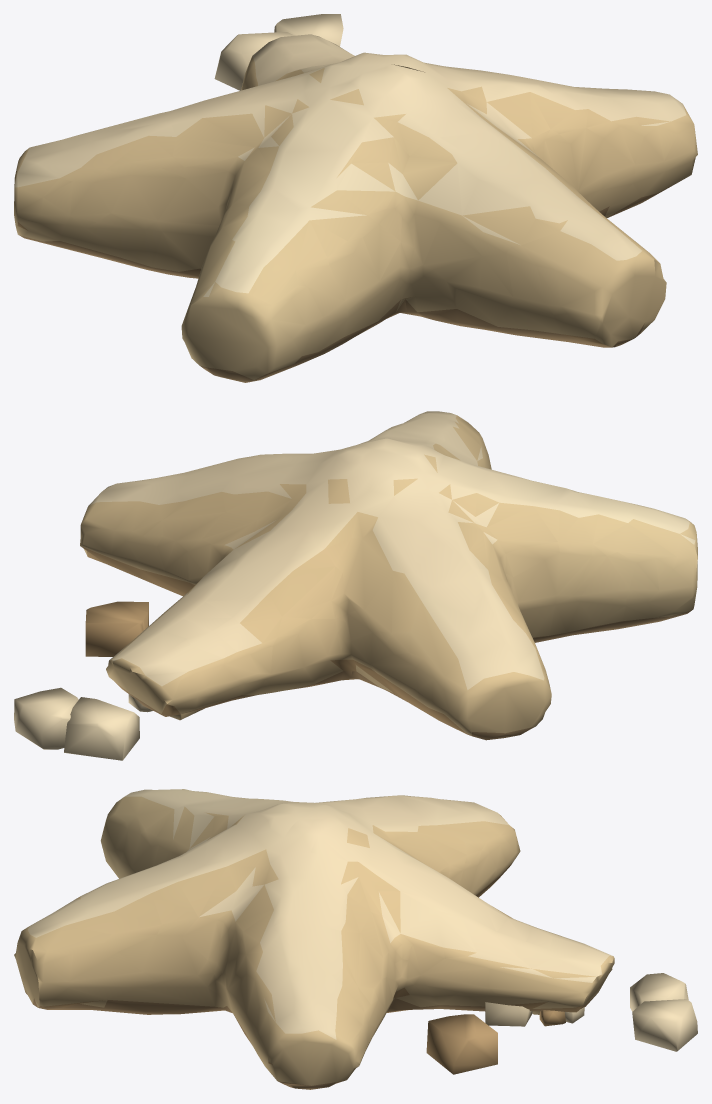
File: shore_sand_pie_c.glb
3 views of the same model, one above another, from view 1: azimuth 30°, elevation 25°; view 2: azimuth 150°, elevation 25°; view 3: azimuth 270°, elevation 25° (orthographic). The views are drawn at different scales.
Parts seen in each view (by area): view 1: shore_sand_pie_c; view 2: shore_sand_pie_c; view 3: shore_sand_pie_c.
Part boxes in pixels (left/top/right/bottom): shore_sand_pie_c: left=14, top=14, right=697, bottom=382; shore_sand_pie_c: left=14, top=411, right=697, bottom=760; shore_sand_pie_c: left=14, top=789, right=697, bottom=1089.
Size of the model in its own units: 4.57 by 1.47 by 5.53.
